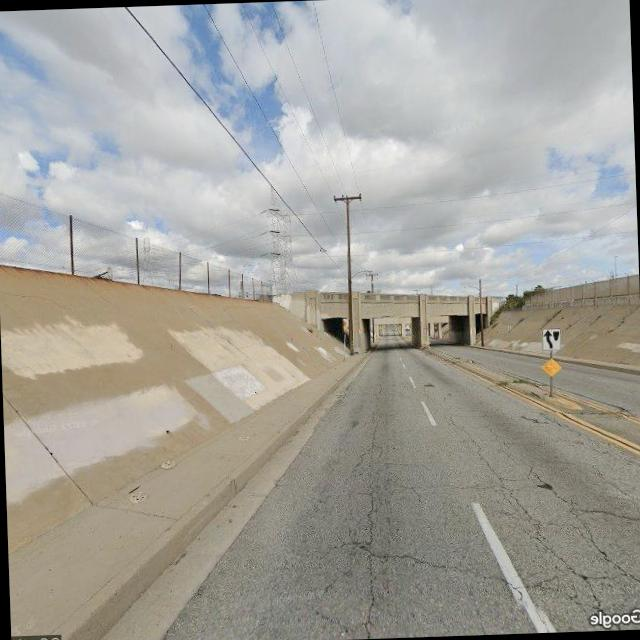crack: (313, 400, 640, 638)
